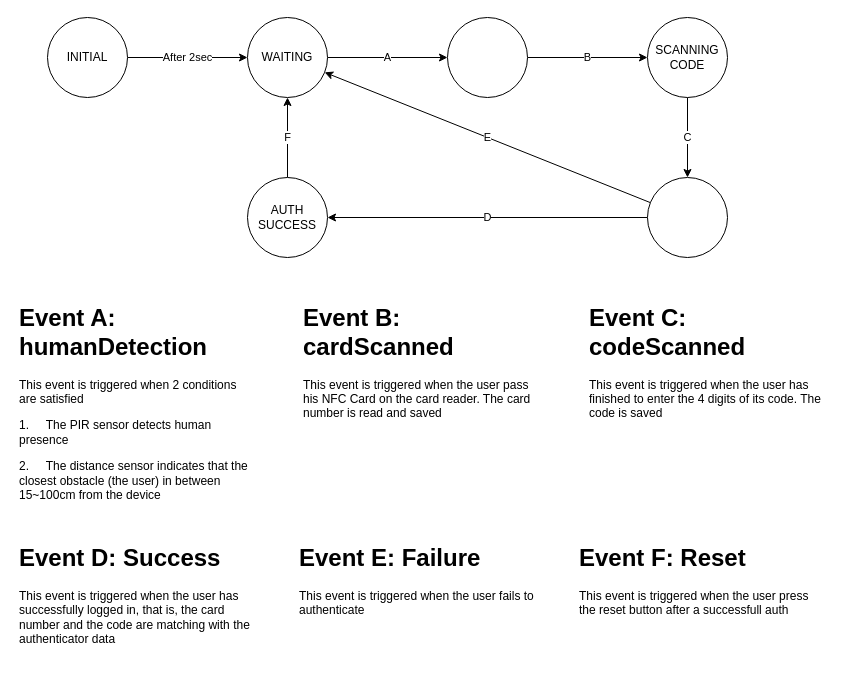
The diagram is 844 pixels wide and 698 high, and some of its shapes have lost their labels. Each missing label, with the box of its shape:
PROCESSING: (646, 176, 728, 258)
SCANNING CARD: (446, 16, 528, 98)
